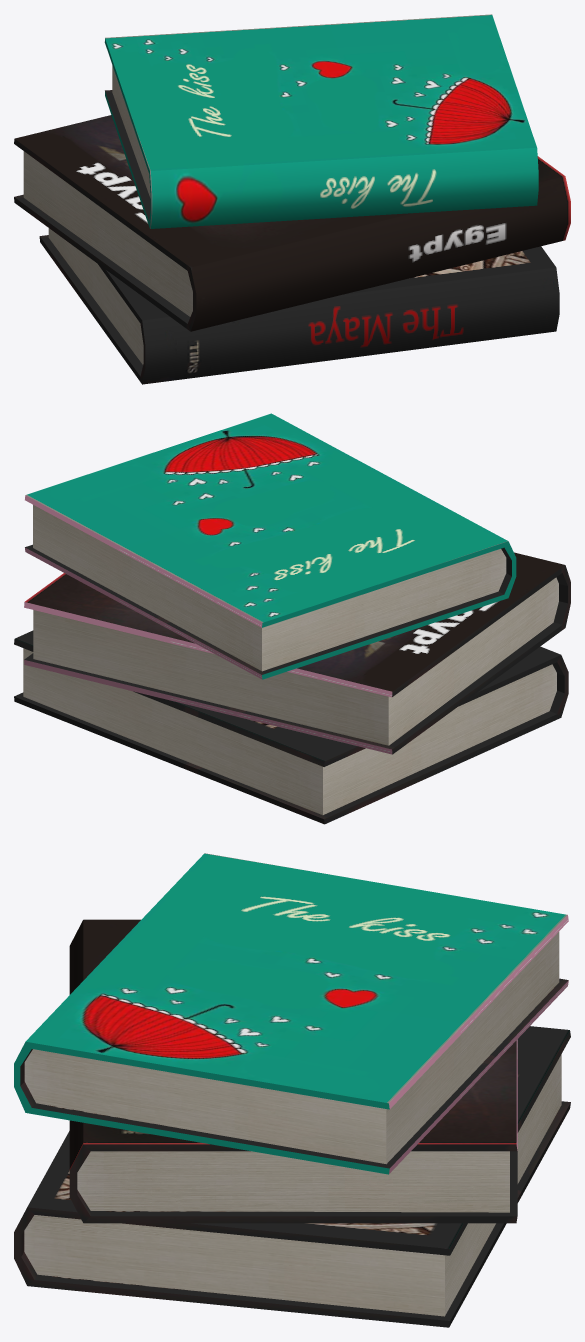
File: Books 2.FBX
3 renders of one model, top to bottom at view 1: azimuth 30°, elevation 25°; view 2: azimuth 150°, elevation 25°; view 3: azimuth 270°, elevation 25°, orthographic. The views are drawn at different scales.
Visible parts, largest first — view 1: Books 2; view 2: Books 2; view 3: Books 2.
Part boxes in pixels (x1,y1,x2,y2): Books 2: (14, 14, 570, 384); Books 2: (14, 413, 570, 824); Books 2: (14, 853, 570, 1327).
Size of the model in its own units: 30.7 by 12.33 by 26.76.
Materials: 1 (1 with a texture image).
